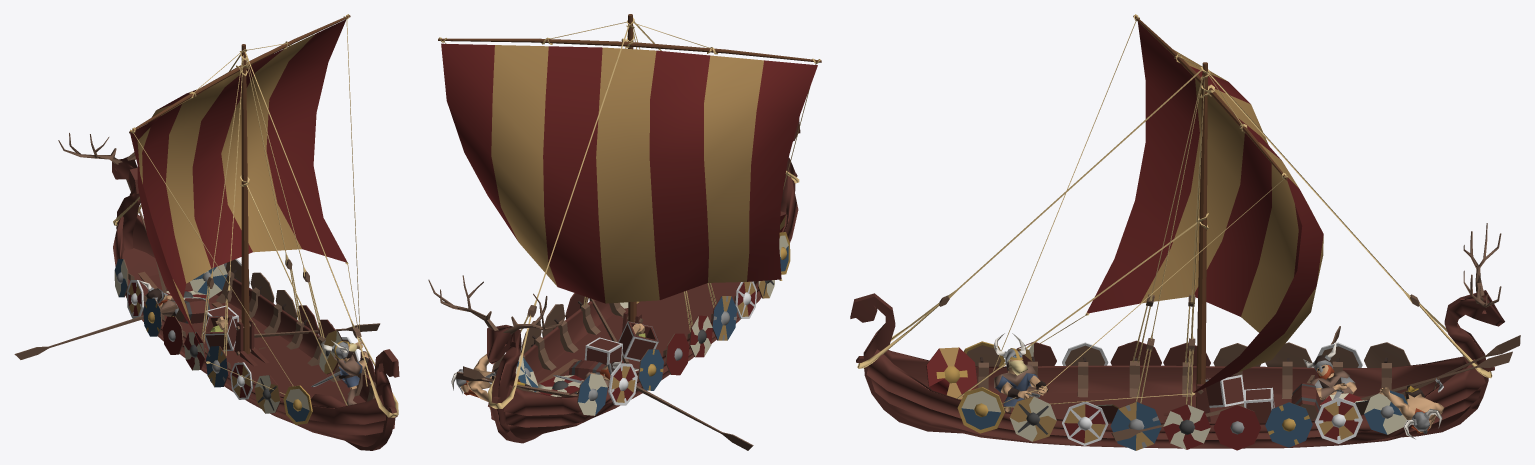
File: navio.glb
The picture shows the model from 3 angles, left to right: view 1: azimuth 30°, elevation 25°; view 2: azimuth 150°, elevation 25°; view 3: azimuth 270°, elevation 25°; orthographic projection. The views are drawn at different scales.
Visible parts, largest first — view 1: Keel.002_Boat1Bake_0; view 2: Keel.002_Boat1Bake_0; view 3: Keel.002_Boat1Bake_0.
Boxes of the visible parts, x1,y1,x2,y2 form: Keel.002_Boat1Bake_0: [14, 14, 399, 450]; Keel.002_Boat1Bake_0: [428, 14, 821, 450]; Keel.002_Boat1Bake_0: [850, 14, 1520, 450].
Bounding box in the file's own units: 11.81 × 11.66 × 18.95.
2 materials, 2 textured.
